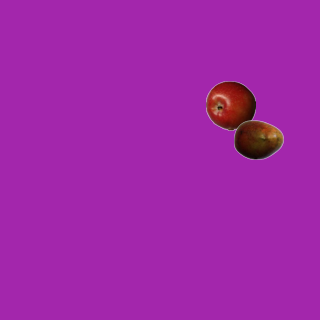Apple Braeburn: (205, 80, 255, 130)
Mango Red: (233, 114, 283, 164)
